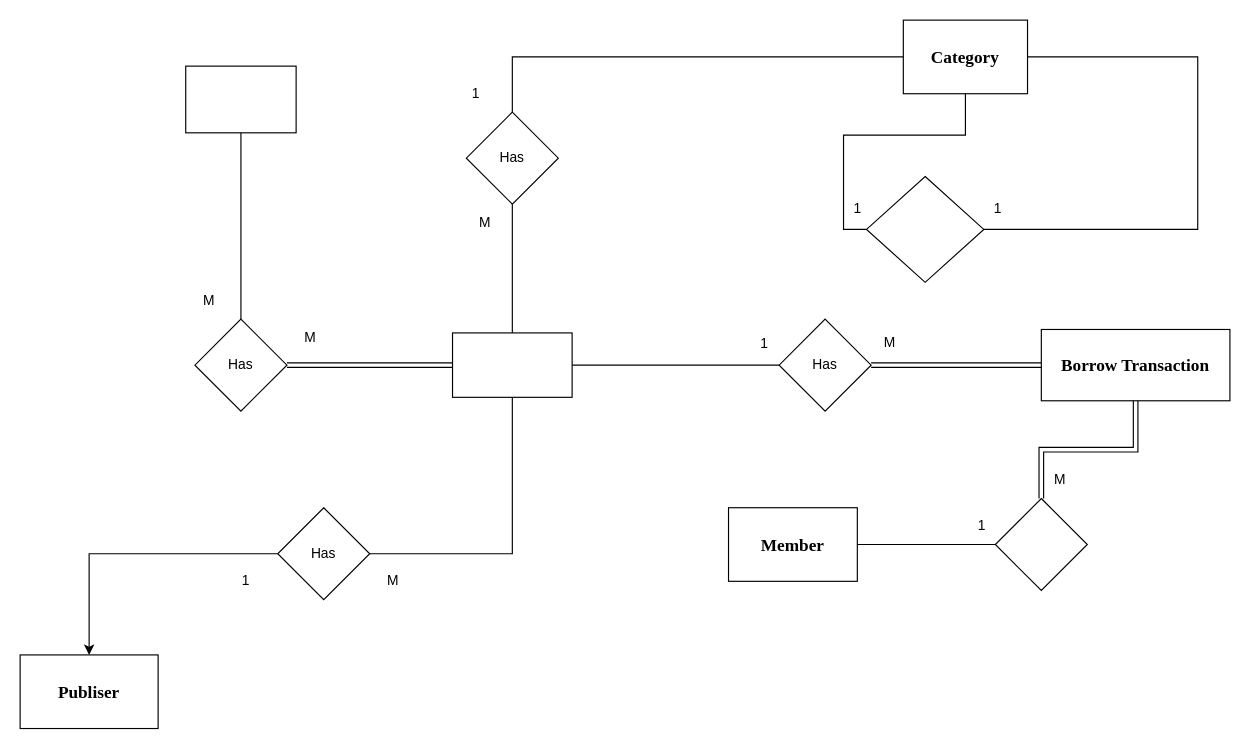
The diagram is 1250 pixels wide and 749 high, and some of its shapes have lost their labels. The centre of each missing label's shape, as x and y in pixels:
Author: pixel 240 99
Book: pixel 511 364
Has Paresnt: pixel 924 228
Make: pixel 1040 544
